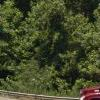Tree: (28, 3, 95, 75)
